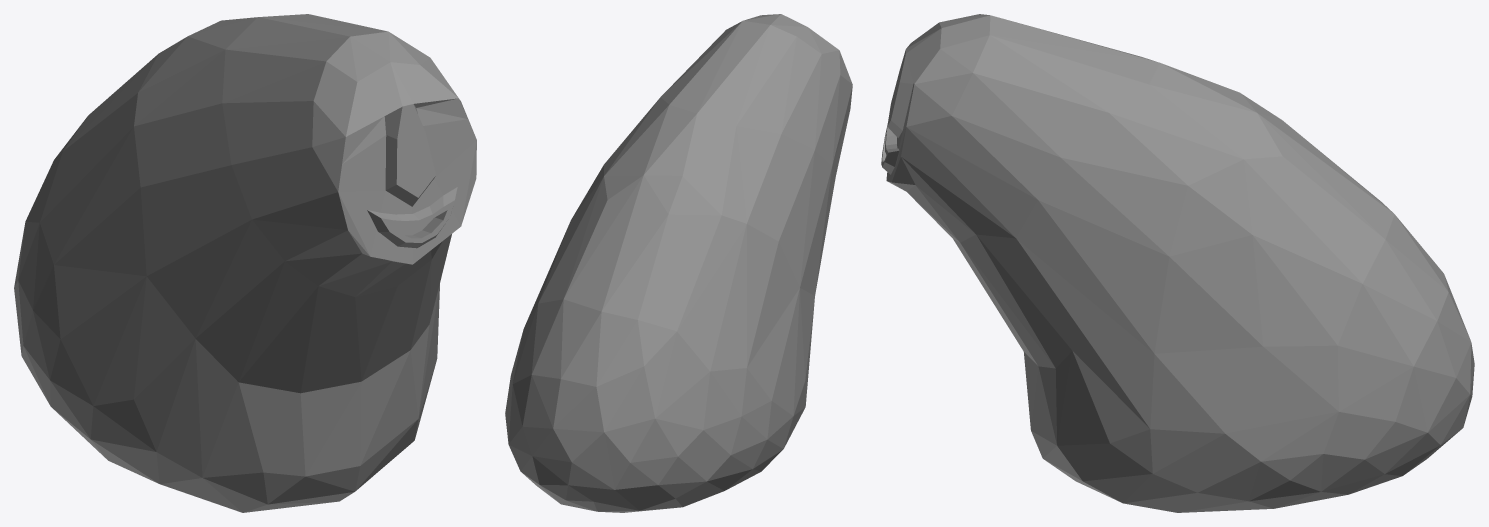
File: Statue_1.fbx
3 renders of one model, left to right at view 1: azimuth 30°, elevation 25°; view 2: azimuth 150°, elevation 25°; view 3: azimuth 270°, elevation 25°, orthographic. The views are drawn at different scales.
Parts seen in each view (by area): view 1: Statue_1; view 2: Statue_1; view 3: Statue_1.
Boxes of the visible parts, <box> form: Statue_1: <box>14,14,476,512</box>; Statue_1: <box>505,14,852,512</box>; Statue_1: <box>881,14,1474,512</box>.
Bounding box in the file's own units: 164 × 252 × 291.
